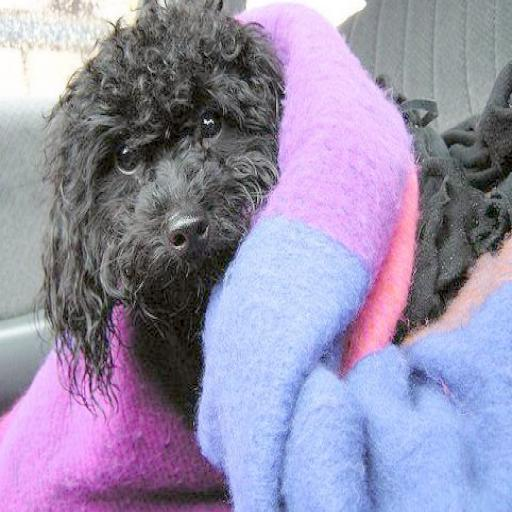dog_face: (48, 16, 281, 290)
